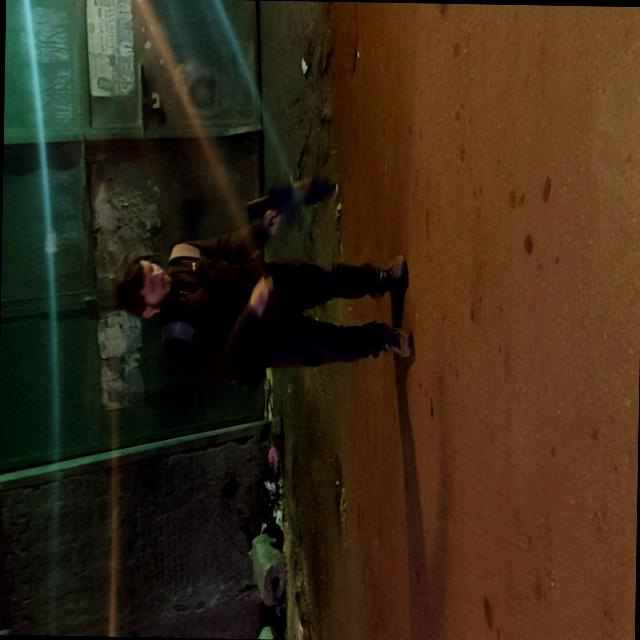long weapon: (238, 130, 344, 246)
